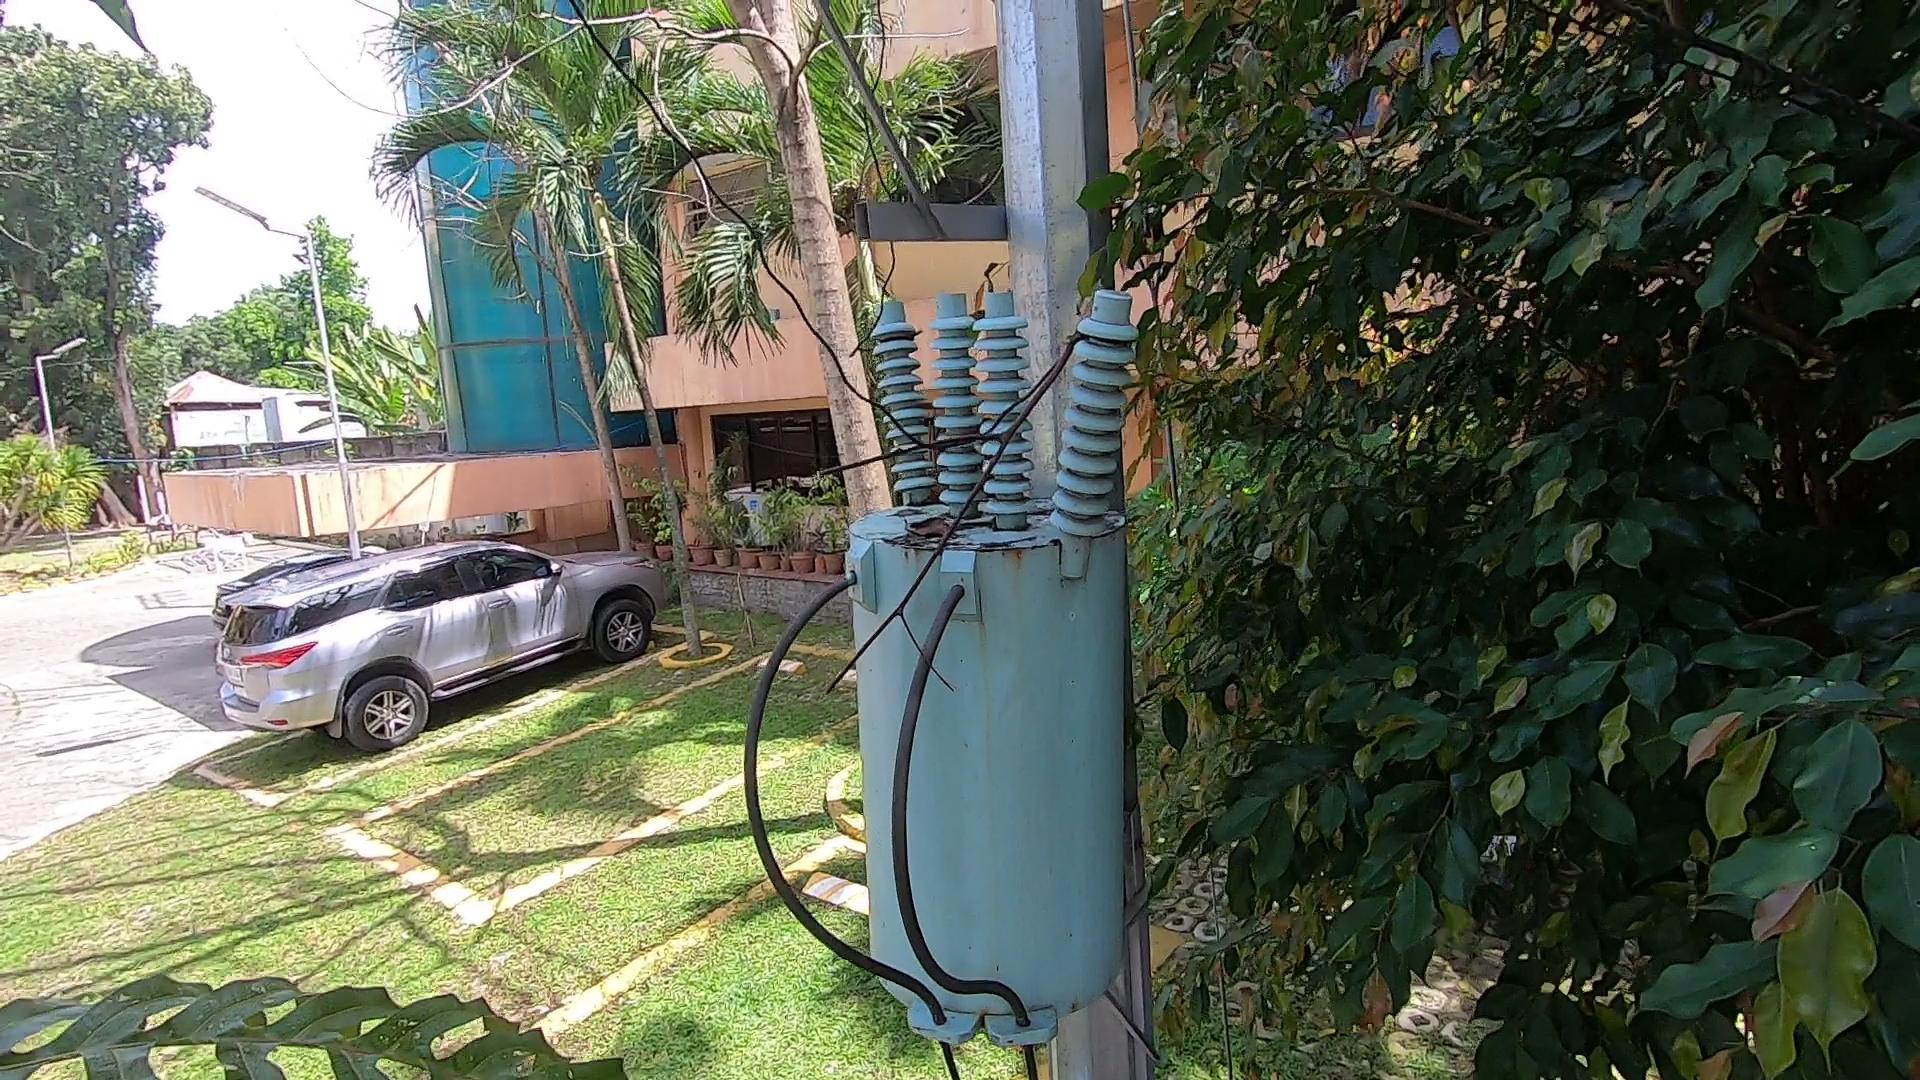leaf: (899, 502, 975, 562)
tree branch: (749, 285, 1106, 709)
